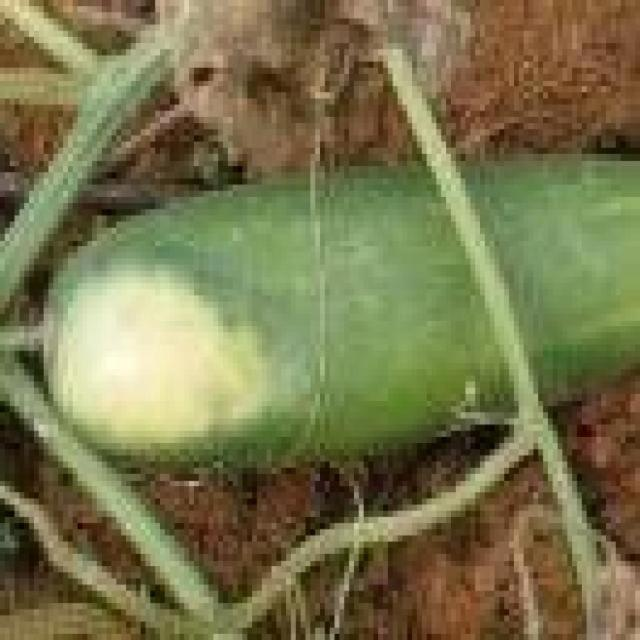Sunscald Fruit: (27, 168, 193, 291)
